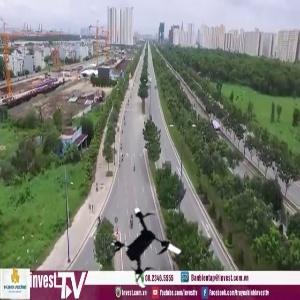drone: (107, 208, 191, 292)
